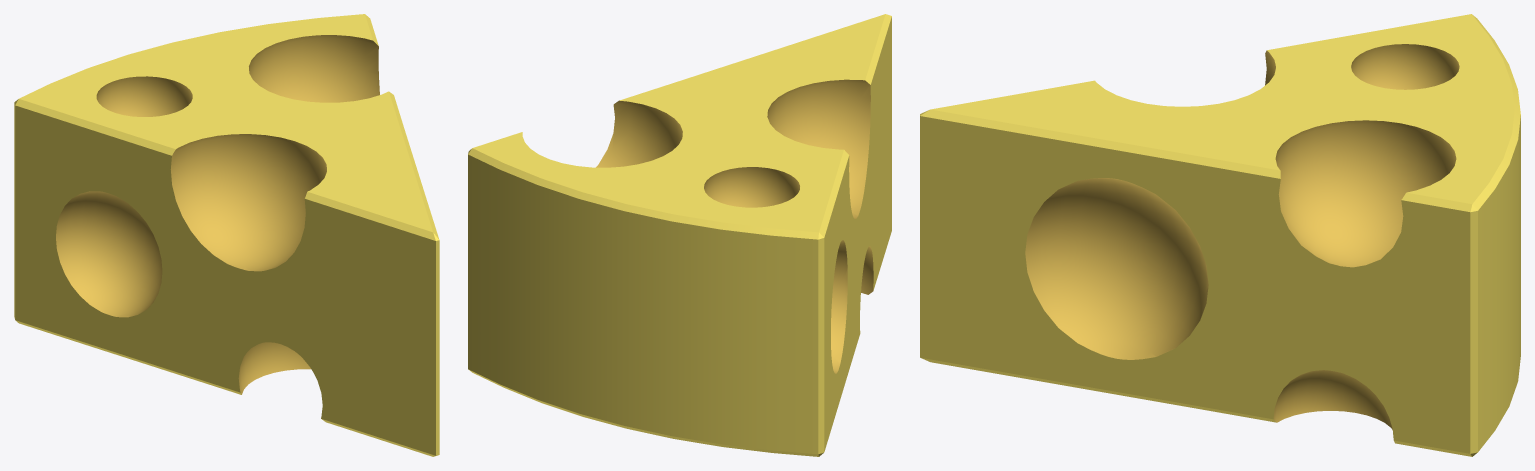
Rendered from CheeseBase.fbx.
3 views of the same model, side by side, from view 1: azimuth 30°, elevation 25°; view 2: azimuth 150°, elevation 25°; view 3: azimuth 270°, elevation 25° (orthographic). The views are drawn at different scales.
Visible parts, largest first — view 1: Cylinder; view 2: Cylinder; view 3: Cylinder.
Boxes of the visible parts, box(x1,y1,x2,y2) form: Cylinder: box(14, 14, 439, 456); Cylinder: box(468, 14, 891, 456); Cylinder: box(920, 14, 1520, 456).
Bounding box in the file's own units: 151 × 91.33 × 197.
